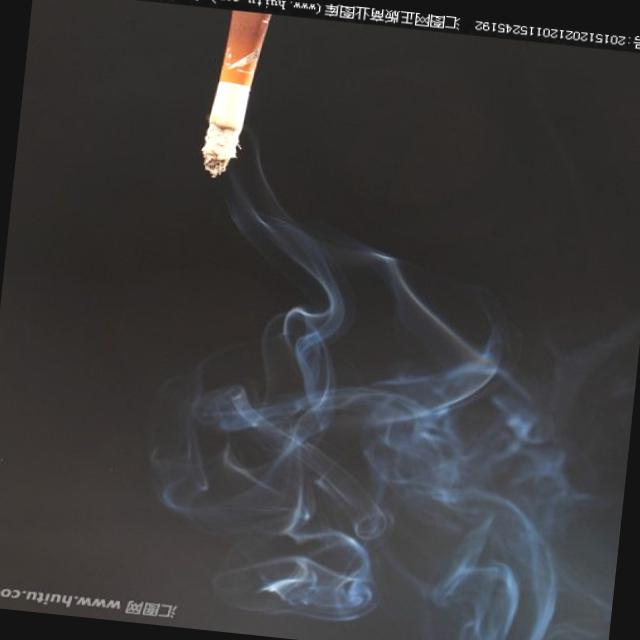cigarette: (195, 4, 264, 189)
